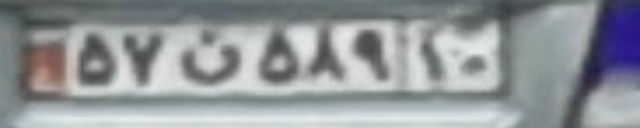0: (459, 55, 486, 72)
1: (415, 31, 445, 79)
5: (254, 27, 300, 81), (75, 34, 113, 84)
7: (122, 31, 163, 84)
8: (304, 28, 343, 79)
9: (350, 30, 392, 80)
non: (179, 30, 243, 85)
